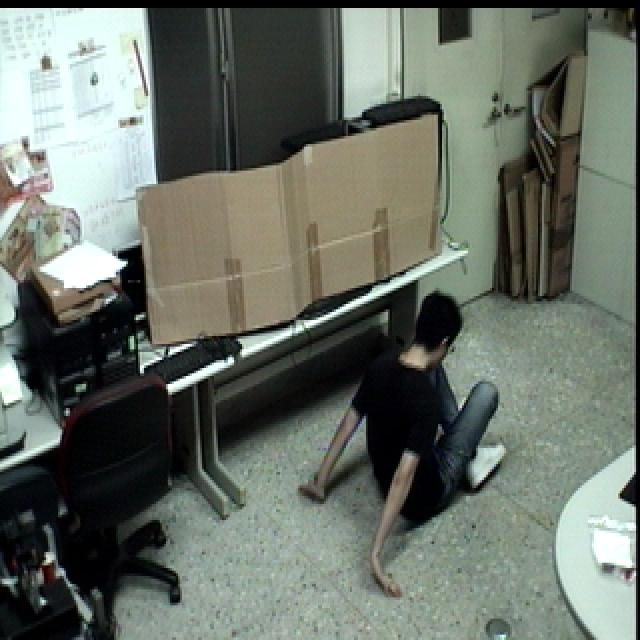sit: (296, 284, 514, 603)
